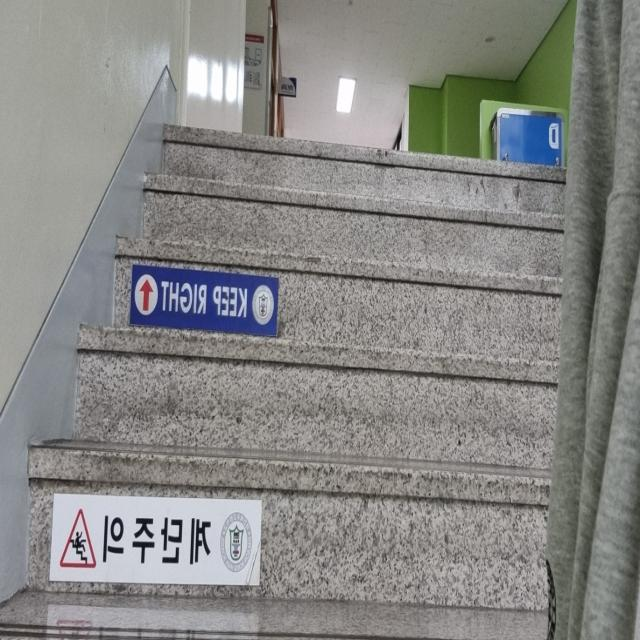logo: (216, 505, 256, 576), (250, 277, 276, 329)
